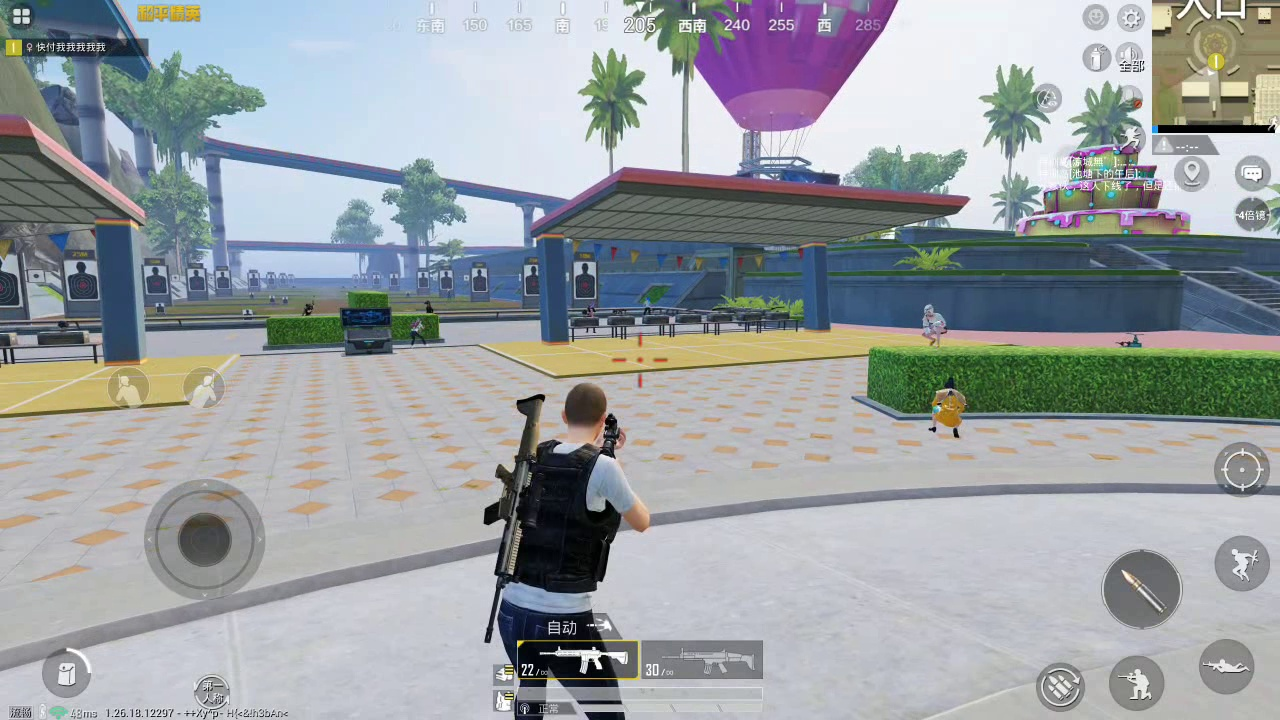enemy: (930, 374, 962, 437), (921, 302, 948, 349), (410, 317, 428, 346), (585, 302, 597, 334), (302, 299, 314, 316), (642, 296, 652, 314)
